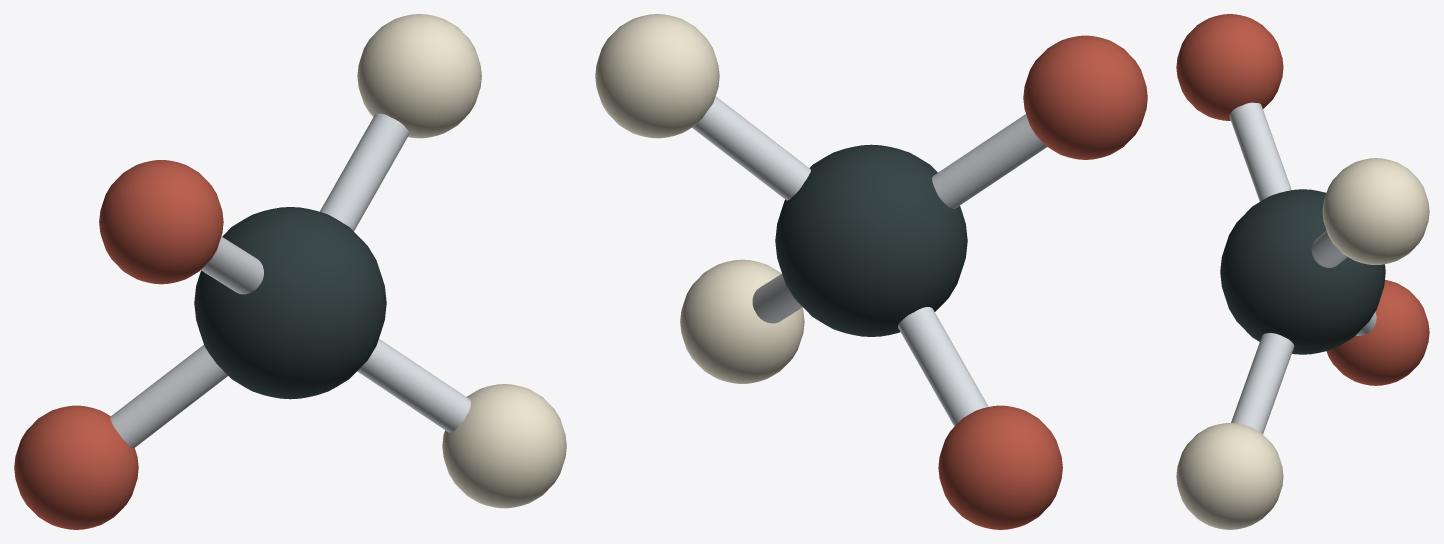
File: molecule.glb
3 views of the same model, side by side, from view 1: azimuth 30°, elevation 25°; view 2: azimuth 150°, elevation 25°; view 3: azimuth 270°, elevation 25° (orthographic). The views are drawn at different scales.
Visible parts, largest first — view 1: molecule; view 2: molecule; view 3: molecule.
Part boxes in pixels (left/top/right/bottom): molecule: left=14, top=14, right=566, bottom=529; molecule: left=595, top=14, right=1147, bottom=529; molecule: left=1176, top=14, right=1429, bottom=529.
Size of the model in its own units: 0.92 by 0.82 by 0.52.
